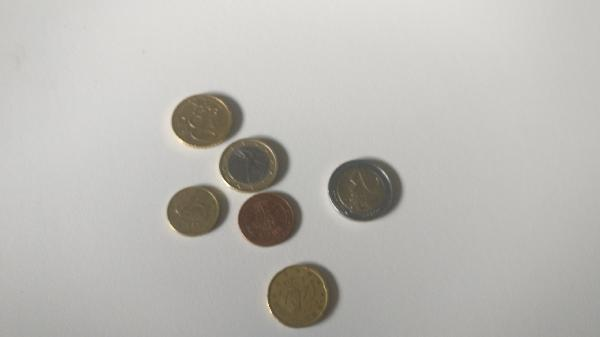Fifty Cent: (169, 94, 235, 145)
Five Cent: (237, 192, 299, 248)
One Euro: (218, 139, 283, 190)
Ten Cent: (163, 185, 222, 234)
Twenty Cent: (267, 265, 327, 325)
Two Euro: (328, 159, 398, 217)
